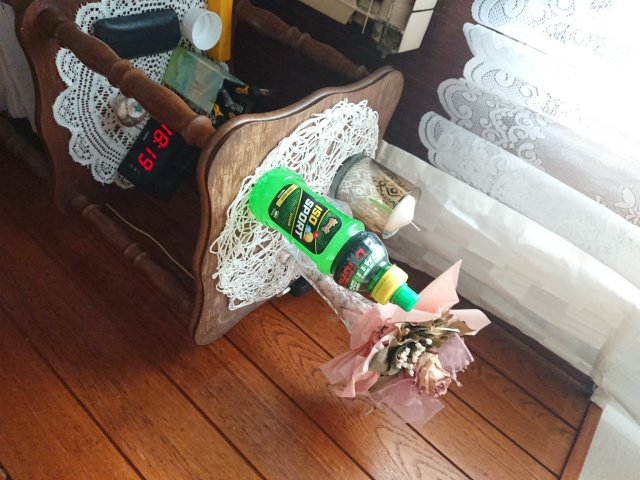Vindi Iso Sport Lemon-Grapefruit 500mL: (245, 164, 422, 314)
